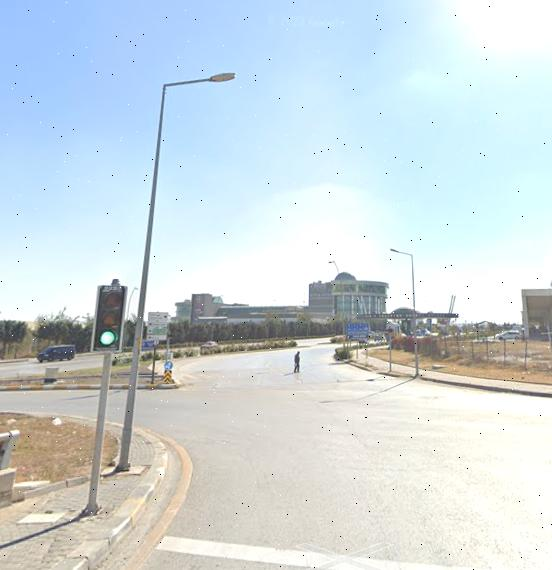greenlight: (96, 286, 121, 346)
